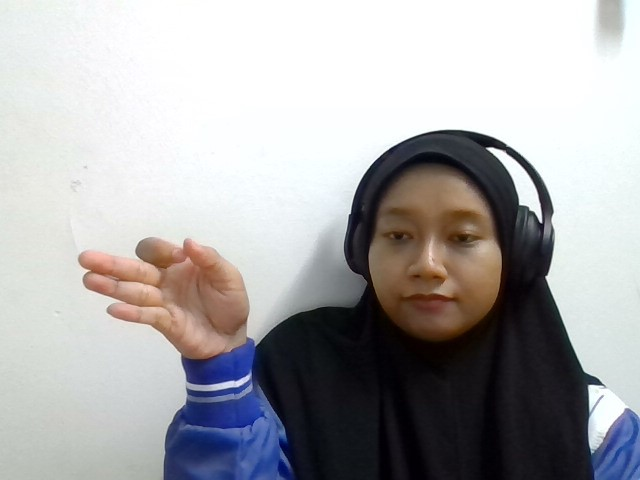Tudung: (77, 235, 252, 359)
